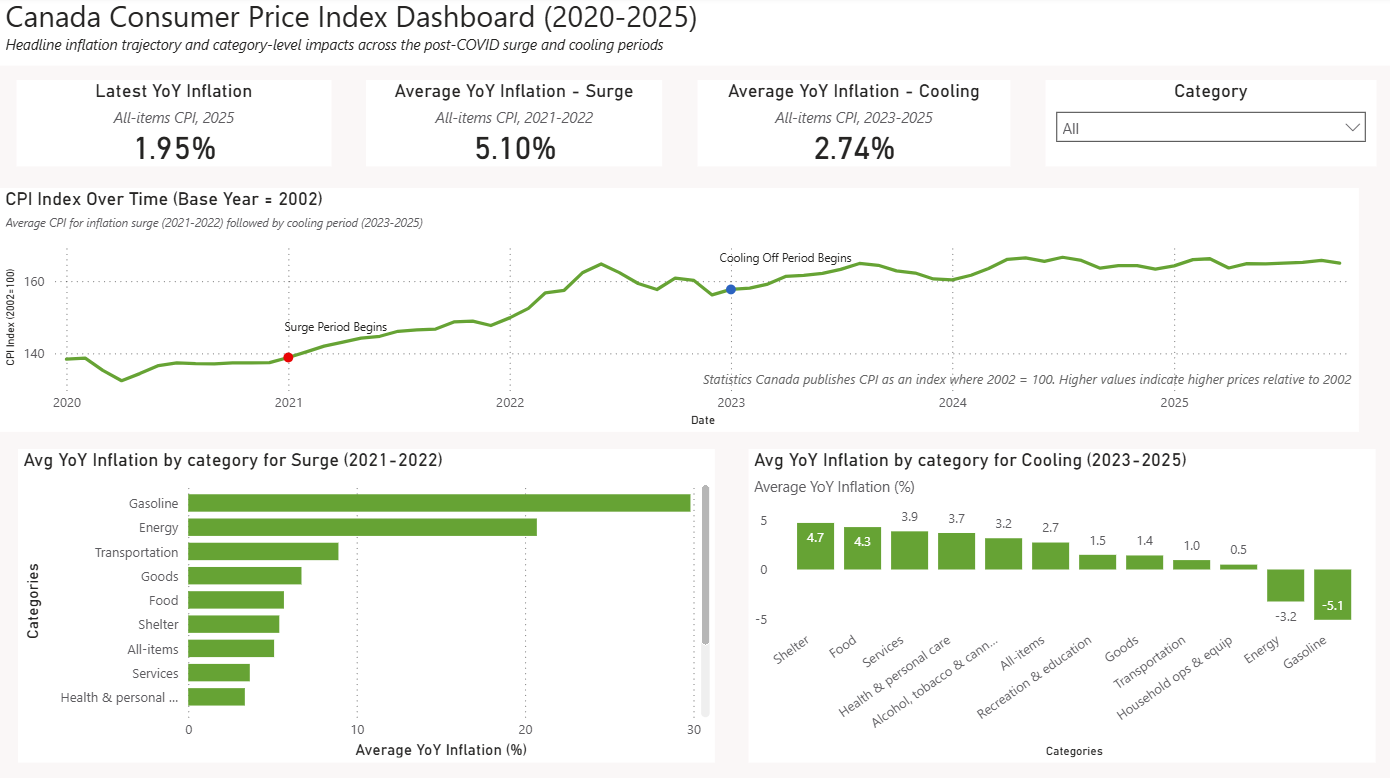

What the dashboard file says about the page in this screenshot:
{"tool":"powerbi","page":{"name":"Page 1","canvas":[1280,720],"ordinal":0},"visuals":[{"type":"textbox","box":[0,0,1279.4,64.3],"z":0},{"type":"card","title":"Latest YoY Inflation","fields":{"Values":["CPI_over_time.Latest YoY Inflation (Display)"]},"box":[15.1,77.5,289.1,79.4],"z":1000},{"type":"card","title":"Average YoY Inflation - Surge","fields":{"Values":["CPI_over_time.Surge YoY Inflation (Display)"]},"box":[336.4,77.5,272.1,79.4],"z":2000},{"type":"card","title":"Average YoY Inflation - Cooling","fields":{"Values":["CPI_over_time.Cooling YoY Inflation (Display)"]},"box":[640.6,77.5,287.2,79.4],"z":3000},{"type":"slicer","title":"Category","fields":{"Values":["cpi_summary.category"]},"box":[960,77.5,304.3,79.4],"z":4000},{"type":"lineChart","title":"CPI Index Over Time (Base Year = 2002)","fields":{"Y":["Avg(CPI_over_time.cpi)","Avg(CPI_over_time.CoolingStart_Marker)","Avg(CPI_over_time.SurgeStart_Marker)"],"Category":["CPI_over_time.date"]},"box":[0,176,1248,224],"z":6000},{"type":"clusteredBarChart","title":"Avg YoY Inflation by category for Surge (2021-2022) ","fields":{"Category":["cpi_summary.Category_Short"],"Y":["CPI_over_time.Avg YoY Surge 2021-2022"]},"box":[16,416,640,288],"z":7000},{"type":"columnChart","title":"Avg YoY Inflation by category for Cooling (2023-2025)","fields":{"Y":["CPI_over_time.Avg YoY Cooling 2023-2025"],"Category":["cpi_summary.Category_Short"]},"box":[688,416,576,288],"z":8000},{"type":"textbox","box":[256,288,160,64],"z":9000},{"type":"textbox","box":[656,224,304,80],"z":10000},{"type":"textbox","box":[640,336,624,80],"z":10001}]}

Visuals, with their boxes in screenshot pixels (x1, y1, x2, y2), scaled from the page's 1280x720 canvas onto the 1390x778 screenshot:
textbox: [left=0, top=0, right=1389, bottom=69]
"Latest YoY Inflation" card: [left=16, top=84, right=330, bottom=170]
"Average YoY Inflation - Surge" card: [left=365, top=84, right=661, bottom=170]
"Average YoY Inflation - Cooling" card: [left=696, top=84, right=1008, bottom=170]
"Category" slicer: [left=1042, top=84, right=1373, bottom=170]
"CPI Index Over Time (Base Year = 2002)" lineChart: [left=0, top=190, right=1355, bottom=432]
"Avg YoY Inflation by category for Surge (2021-2022) " clusteredBarChart: [left=17, top=450, right=712, bottom=761]
"Avg YoY Inflation by category for Cooling (2023-2025)" columnChart: [left=747, top=450, right=1373, bottom=761]
textbox: [left=278, top=311, right=452, bottom=380]
textbox: [left=712, top=242, right=1042, bottom=328]
textbox: [left=695, top=363, right=1373, bottom=450]
